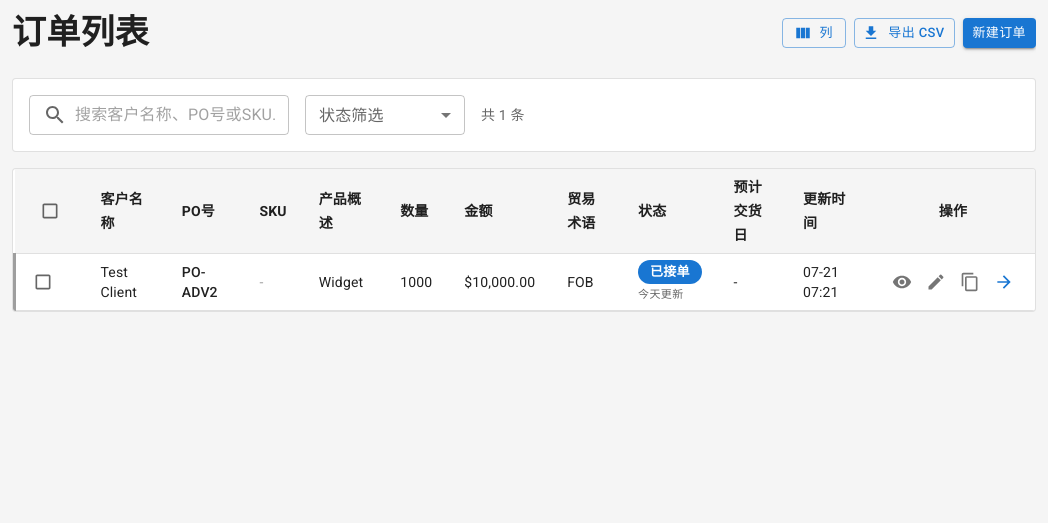
it: REG — 回归测试：已有功能 › 快速状态推进 › 点击推进按钮打开菜单
This screenshot has width=1048, height=523.
Click the button named "快速推进状态". click: click(1004, 282)
box: [989,267,1019,297]
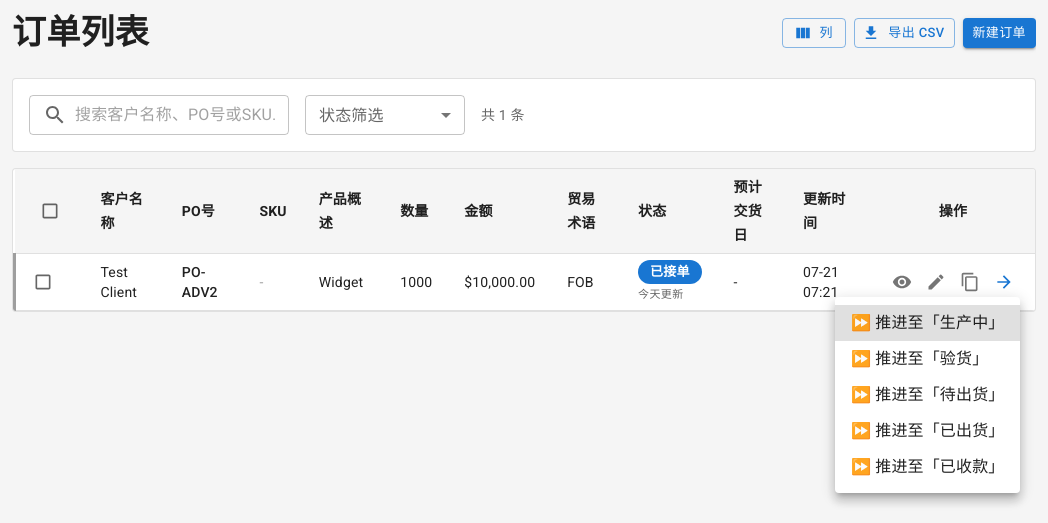
Expected: the menu item "⏩ 推进至「生产中」" is shown, [835,305,1020,341]
